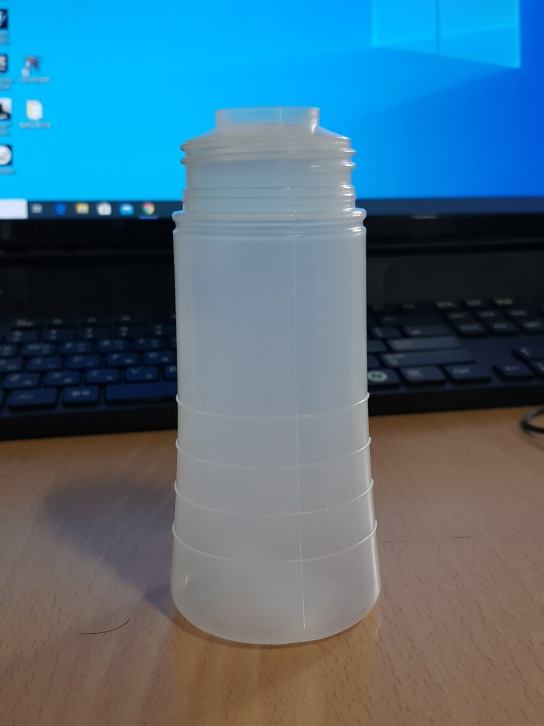Plastic: (166, 105, 387, 650)
